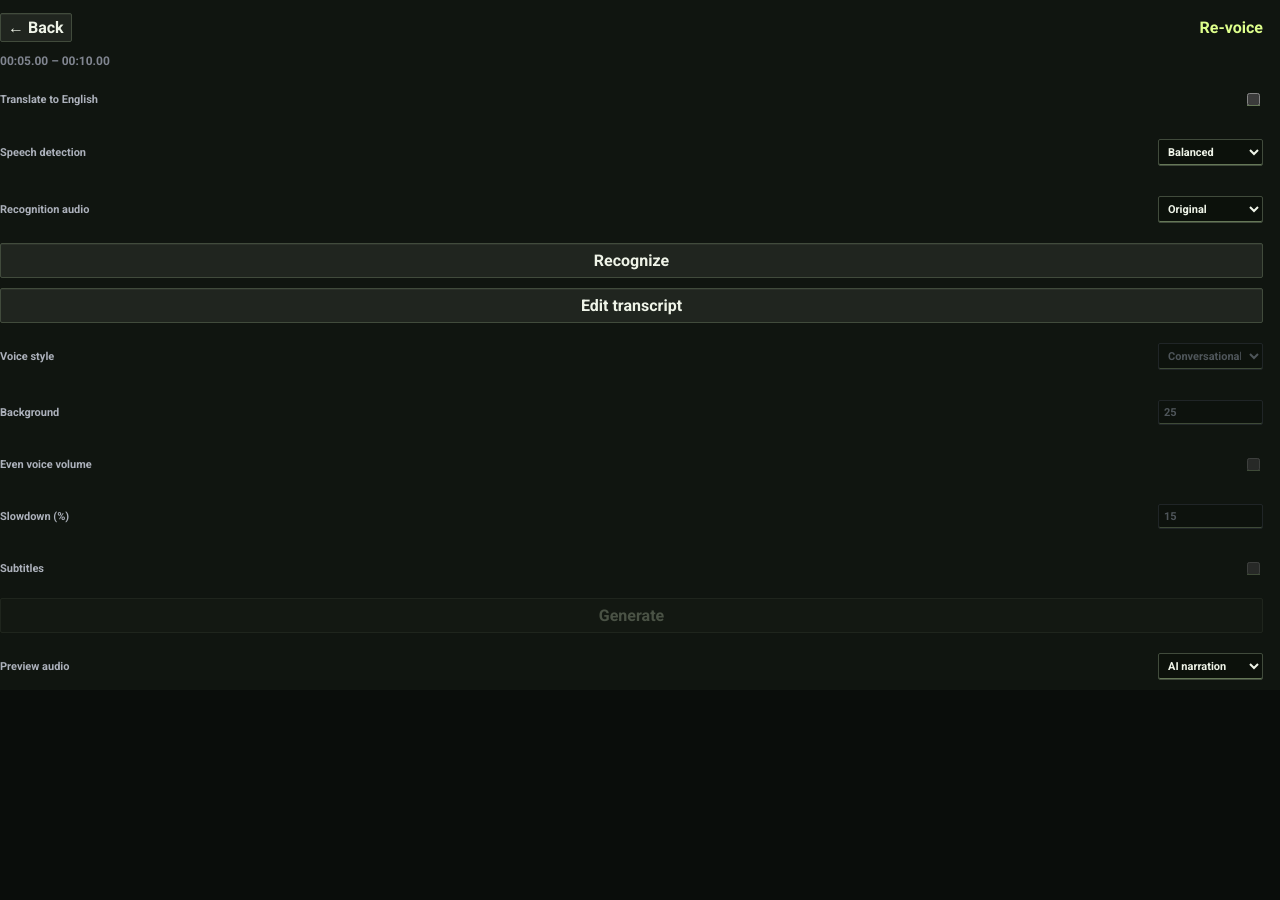
Test case: marked Re-voice transcript views › shows an empty marked right view when only a crossing phrase starts on the left
The image size is (1280, 900).
Click the button "Edit transcript" at [632, 306], box [0,288,1263,323]
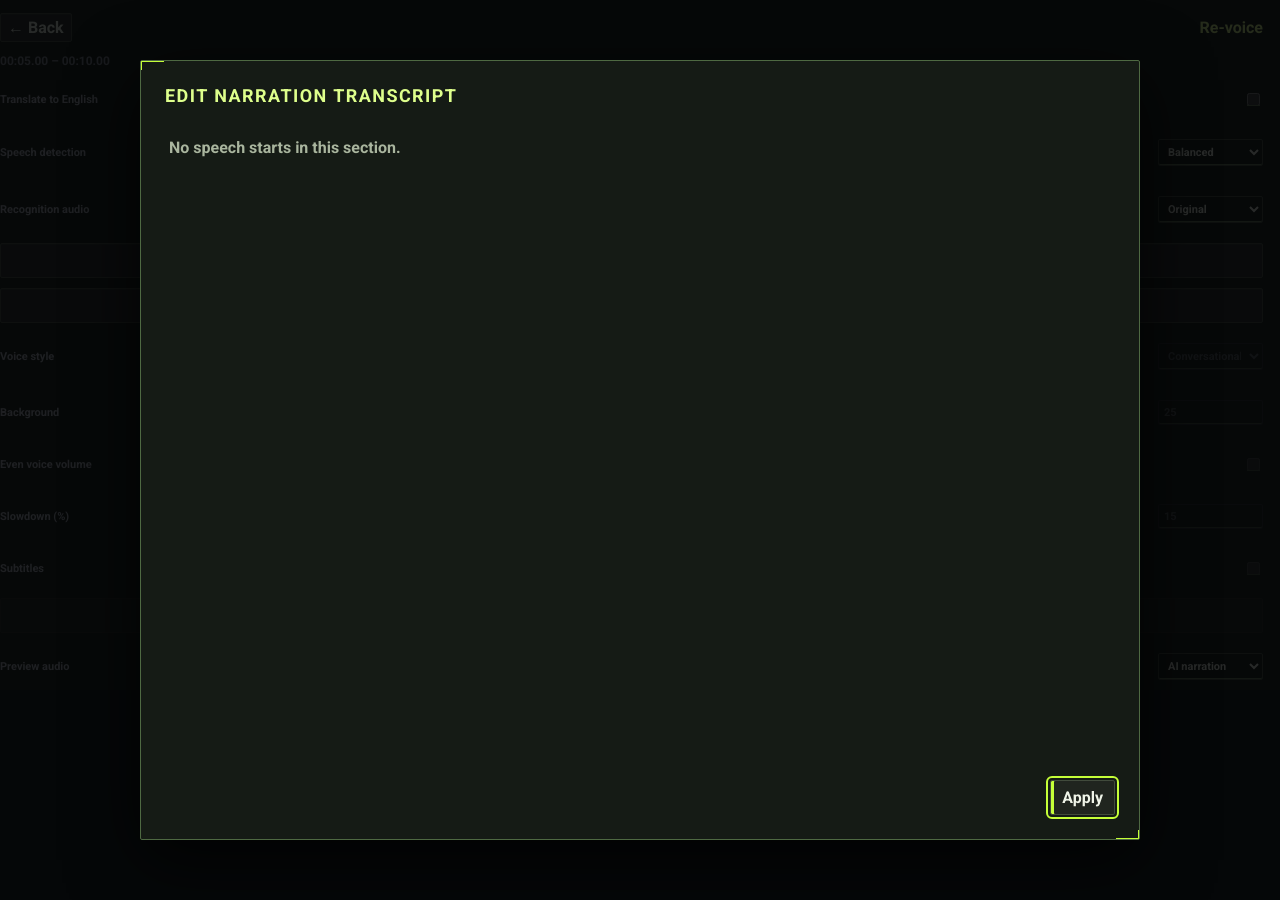
Expected: the button "Generate" is disabled, [0,598,1263,633]
Now the text "No speech starts in this section." is shown, box [169,138,401,157]
